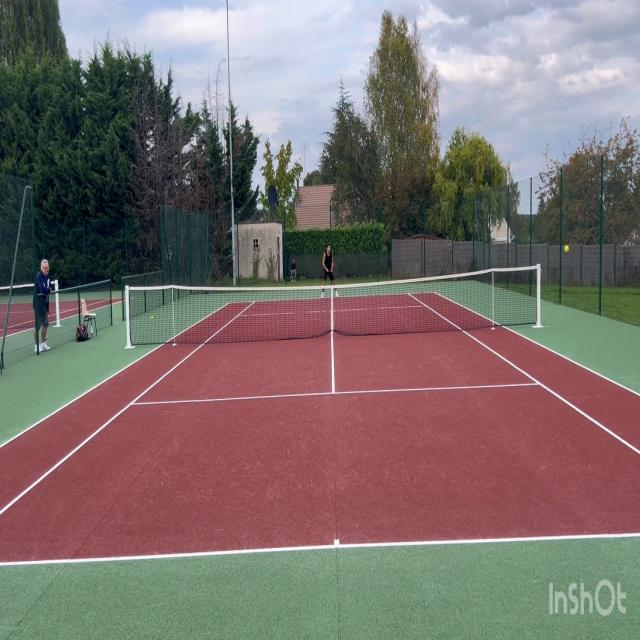ball: (564, 244, 569, 254), (151, 315, 153, 320)
